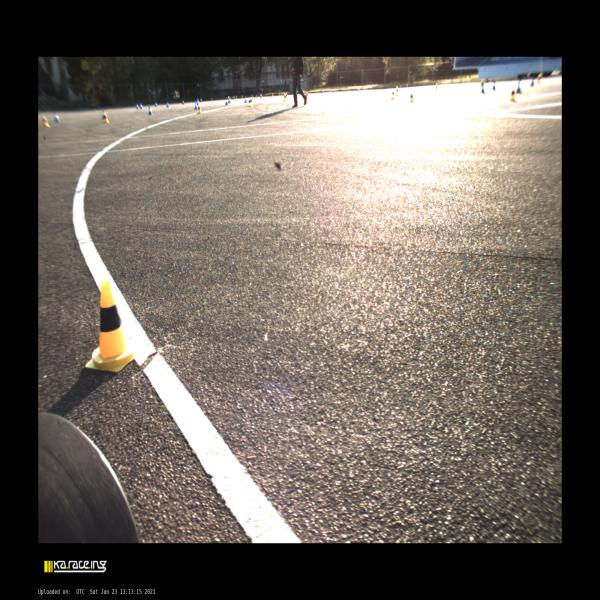blue_cone: (516, 81, 522, 93), (55, 113, 60, 122), (492, 80, 496, 90), (481, 84, 485, 94), (148, 106, 152, 115), (530, 77, 534, 86), (194, 102, 198, 110), (140, 103, 144, 109), (225, 98, 228, 105), (244, 96, 247, 102), (167, 101, 170, 107), (136, 103, 139, 109), (103, 110, 105, 118), (250, 95, 252, 102), (228, 97, 230, 103), (197, 99, 199, 105), (155, 102, 157, 107), (200, 98, 202, 102), (344, 89, 346, 92), (183, 100, 184, 105), (211, 98, 213, 100), (322, 89, 323, 93), (334, 89, 334, 93)
yellow_cone: (84, 279, 136, 374), (42, 115, 50, 127), (103, 112, 110, 123), (510, 88, 515, 102), (196, 104, 202, 114), (391, 90, 395, 100), (410, 91, 413, 103), (537, 74, 541, 83), (480, 79, 484, 88), (248, 97, 251, 107), (284, 92, 286, 102), (396, 86, 398, 96), (306, 91, 308, 98), (233, 95, 235, 101), (260, 94, 262, 100), (241, 95, 243, 100), (436, 83, 437, 91), (286, 92, 287, 99), (236, 95, 237, 100), (272, 93, 273, 96)
